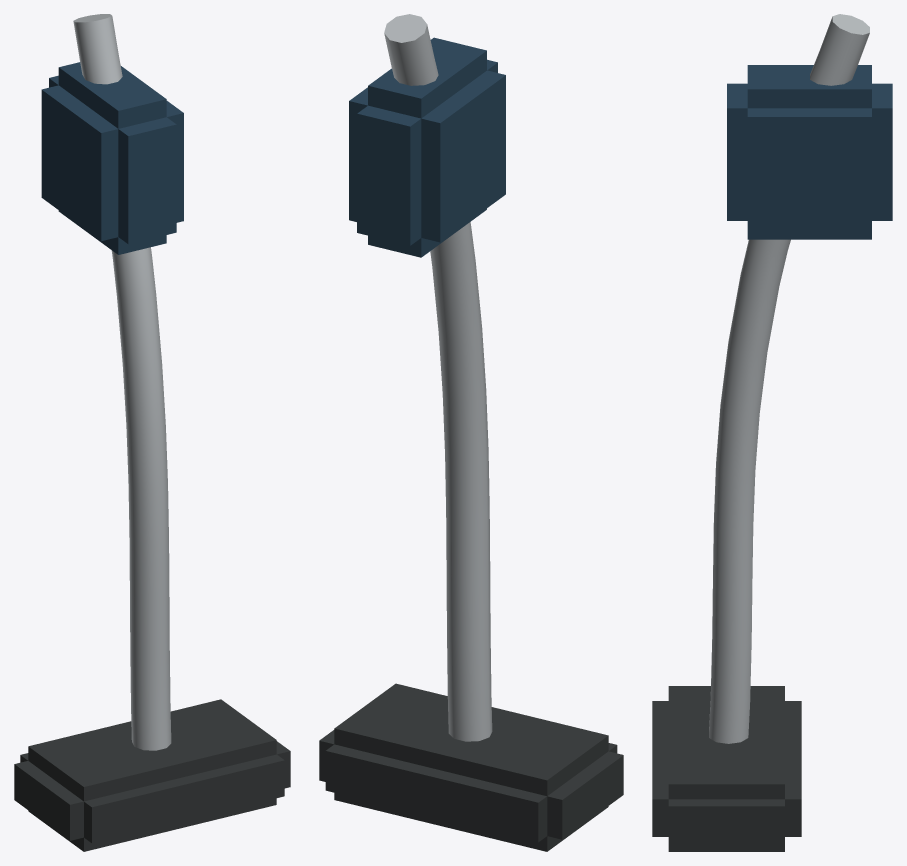
File: sku_vacuum.glb
3 views of the same model, side by side, from view 1: azimuth 30°, elevation 25°; view 2: azimuth 150°, elevation 25°; view 3: azimuth 270°, elevation 25° (orthographic). The views are drawn at different scales.
Parts seen in each view (by area): view 1: sku_vacuum_Anodised_graphite, sku_vacuum_Brushed_stainless, sku_vacuum_FY21_navy; view 2: sku_vacuum_Anodised_graphite, sku_vacuum_FY21_navy, sku_vacuum_Brushed_stainless; view 3: sku_vacuum_FY21_navy, sku_vacuum_Brushed_stainless, sku_vacuum_Anodised_graphite.
Part boxes in pixels (x1,y1,x2,y2): sku_vacuum_Anodised_graphite: (14, 699, 290, 851); sku_vacuum_Brushed_stainless: (73, 14, 171, 750); sku_vacuum_FY21_navy: (41, 62, 183, 254); sku_vacuum_Anodised_graphite: (319, 683, 623, 851); sku_vacuum_FY21_navy: (349, 37, 505, 257); sku_vacuum_Brushed_stainless: (384, 14, 492, 741); sku_vacuum_FY21_navy: (727, 65, 892, 239); sku_vacuum_Brushed_stainless: (709, 14, 869, 743); sku_vacuum_Anodised_graphite: (652, 686, 801, 851).
Size of the model in its own units: 0.32 by 1.04 by 0.29.
